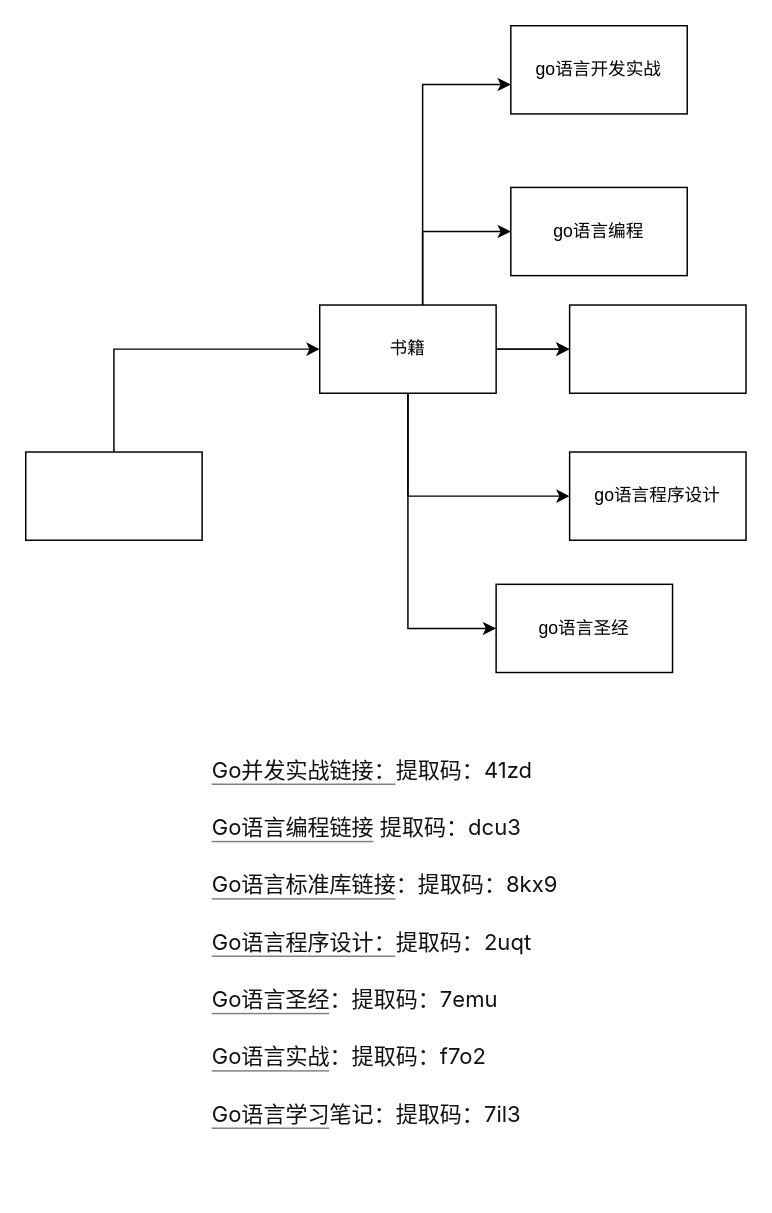
Image size: 772x1213. Some labels were removed from this diagram. The centre of each missing label's shape, as x and y in pixels:
go语言标准库: point (657, 348)
学习: point (113, 495)
